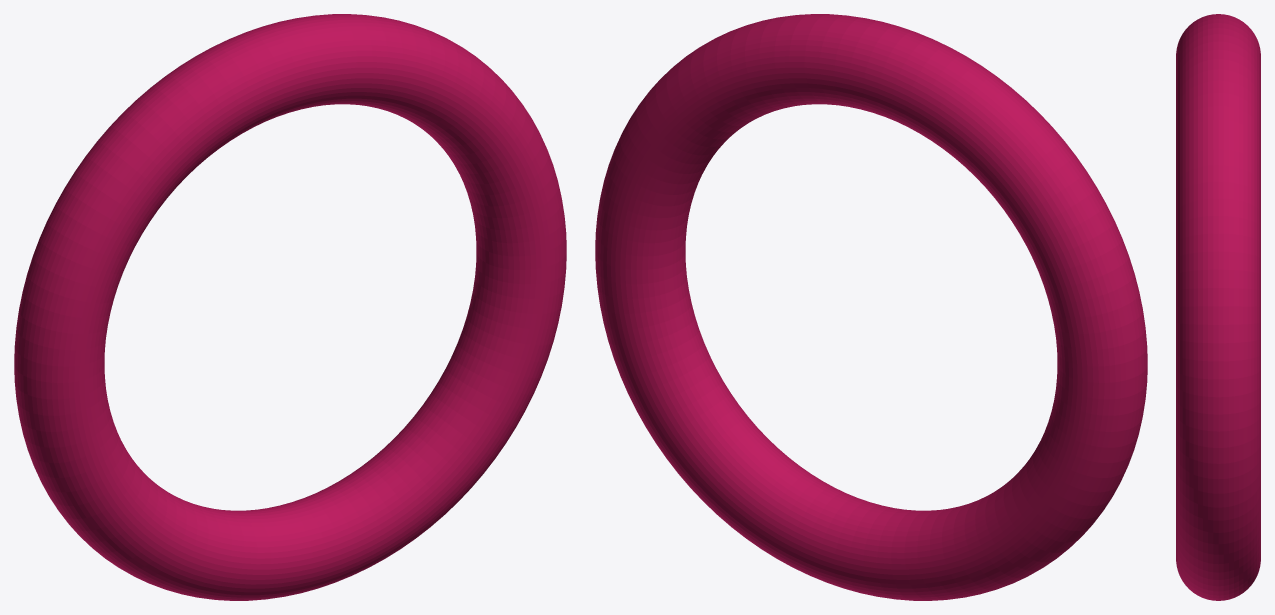
3 renders of one model, left to right at view 1: azimuth 30°, elevation 25°; view 2: azimuth 150°, elevation 25°; view 3: azimuth 270°, elevation 25°, orthographic. The views are drawn at different scales.
Visible parts, largest first — view 1: world; view 2: world; view 3: world.
Part boxes in pixels (x1,y1,x2,y2): world: [14, 14, 566, 600]; world: [595, 14, 1147, 600]; world: [1176, 14, 1260, 600].
Bounding box in the file's own units: 30.4 × 30.4 × 4.39.
